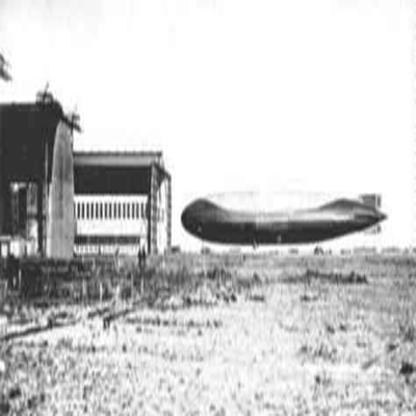Airship: (176, 177, 388, 253)
